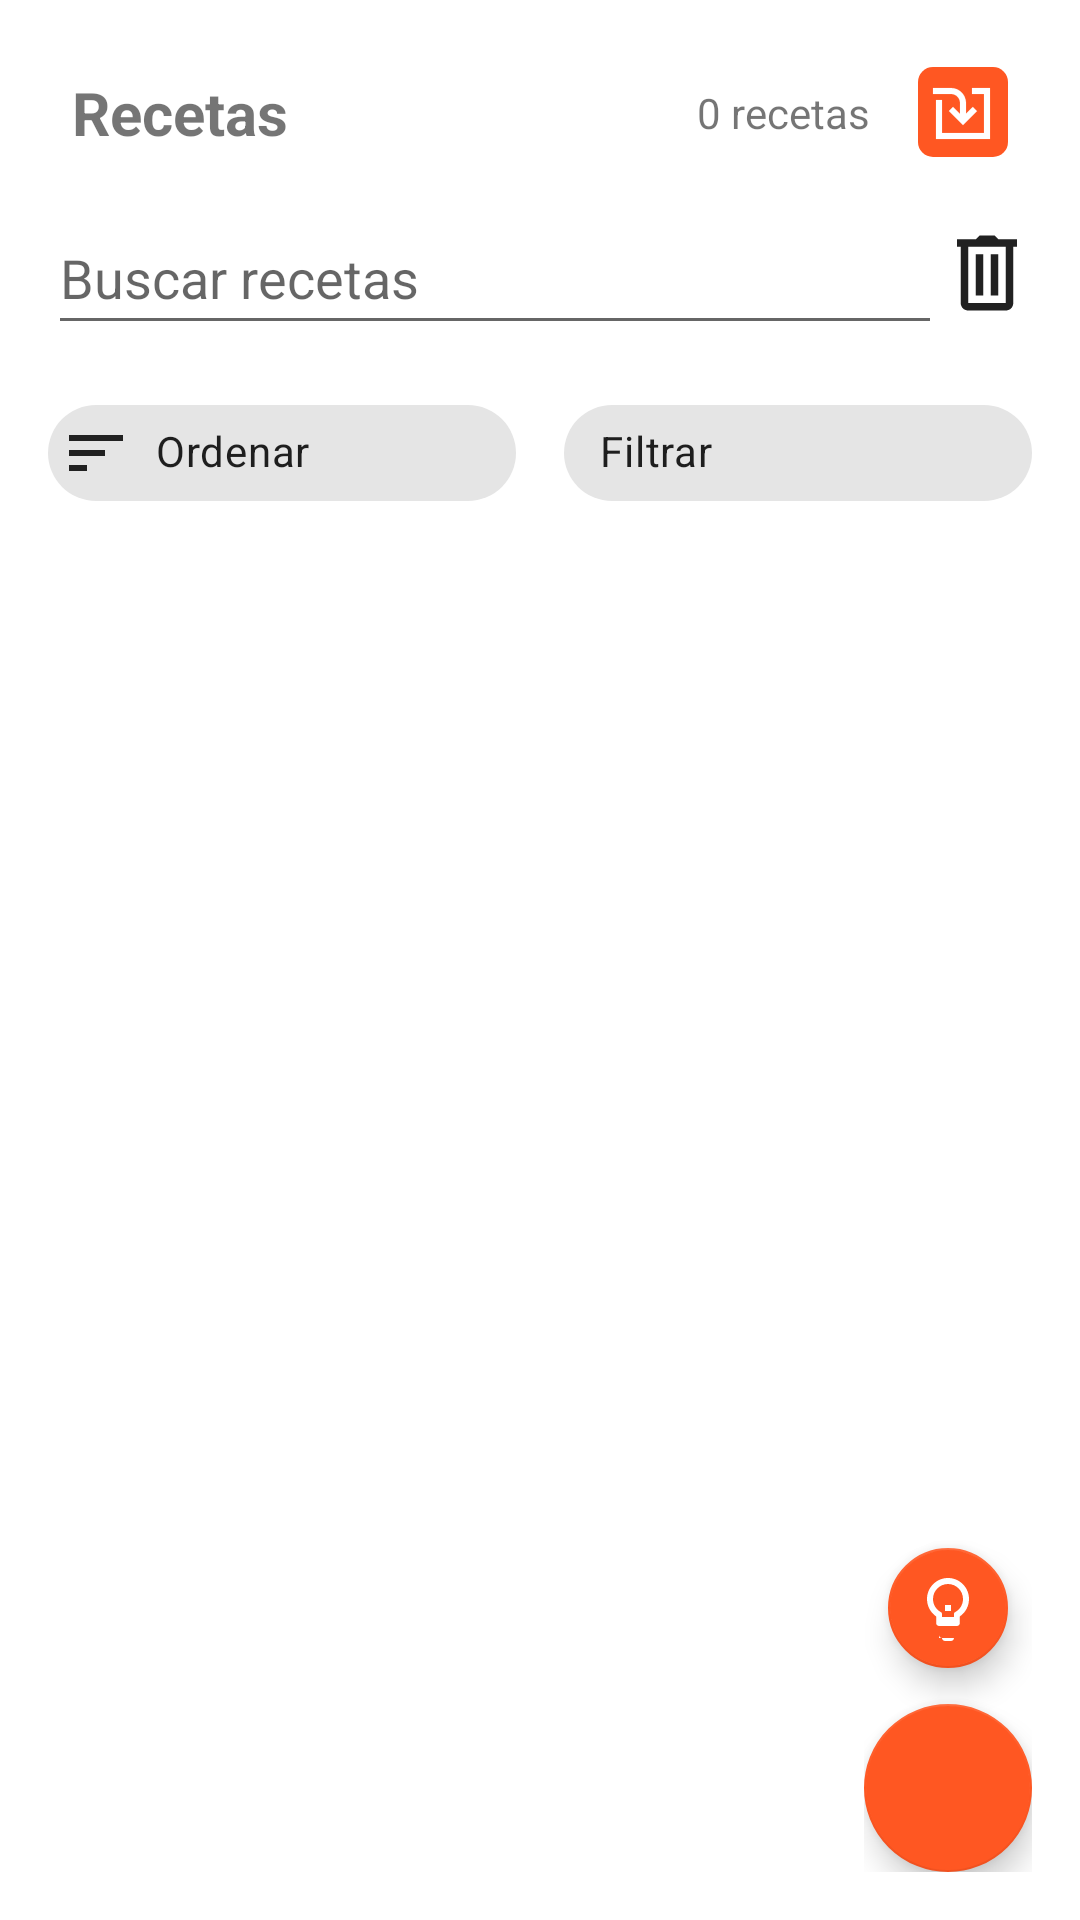

Named icons in this screenshot (1080*1920) and their bounding boxes, Rect(x1, y1, x2, y2):
Importar: Rect(918, 67, 1008, 157)
